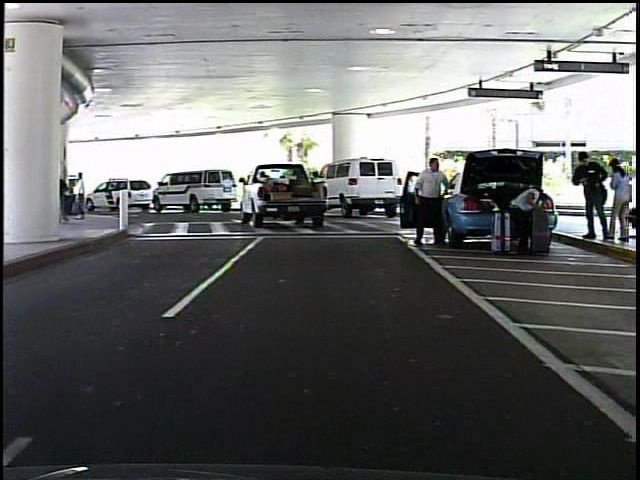person: (412, 155, 456, 248), (571, 147, 607, 246), (506, 174, 547, 255), (603, 155, 634, 247)
